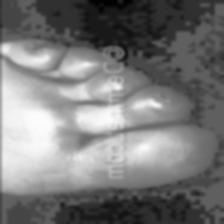Unclassified: (0, 94, 43, 157), (165, 143, 200, 171), (26, 42, 62, 58), (152, 89, 178, 110)
